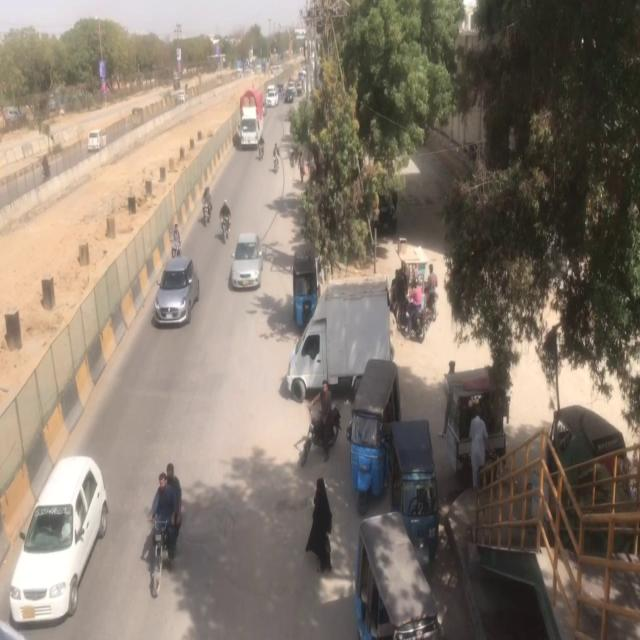car: (8, 441, 110, 627), (152, 248, 200, 341), (230, 226, 266, 307)
motorbike: (143, 451, 189, 602), (217, 195, 233, 247), (200, 181, 214, 228), (271, 139, 281, 174)
truck: (236, 89, 264, 150)
